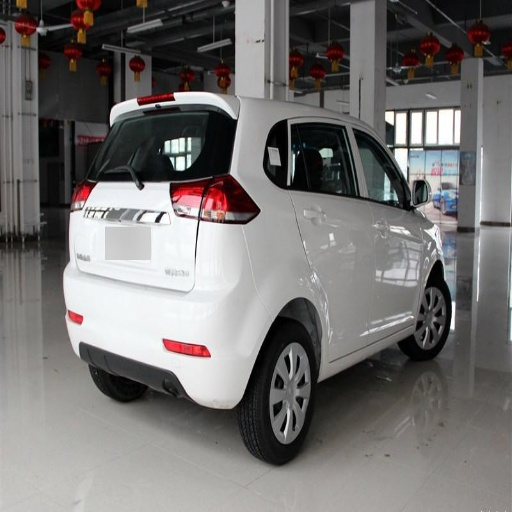back_bumper: (67, 221, 275, 406)
back_right_door: (292, 119, 382, 355)
tailgate: (119, 200, 202, 290), (76, 181, 117, 268)
trunk: (77, 181, 207, 286)
